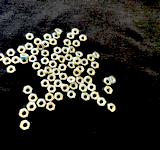nut: (20, 121, 31, 132), (23, 86, 34, 96), (19, 109, 30, 119), (46, 102, 56, 113), (107, 103, 117, 114), (27, 102, 37, 113), (37, 99, 47, 109), (54, 92, 64, 102), (67, 91, 77, 100), (45, 93, 55, 102), (97, 98, 106, 108), (7, 65, 16, 74), (32, 62, 41, 71), (41, 79, 50, 88), (59, 63, 68, 72), (88, 83, 97, 92), (104, 86, 113, 95), (29, 94, 38, 103), (12, 56, 21, 65), (41, 57, 50, 66), (104, 78, 113, 87), (48, 85, 57, 94), (54, 80, 63, 89), (61, 84, 70, 93), (37, 43, 46, 52), (76, 77, 85, 86), (91, 92, 100, 101), (6, 49, 16, 57), (81, 93, 91, 101), (47, 74, 57, 82), (28, 55, 38, 63), (51, 53, 60, 61), (44, 33, 53, 41), (59, 73, 68, 81), (87, 68, 96, 76), (81, 58, 89, 67), (73, 69, 82, 77), (3, 58, 12, 66), (31, 48, 40, 56), (109, 76, 117, 85), (37, 70, 46, 78), (80, 84, 88, 93), (49, 61, 58, 69), (87, 54, 96, 62), (80, 34, 88, 42), (62, 47, 70, 55), (26, 33, 34, 41), (18, 46, 26, 54), (70, 83, 78, 91), (34, 38, 42, 46), (72, 28, 80, 36), (64, 39, 72, 47), (73, 40, 81, 48), (45, 67, 53, 75), (68, 62, 76, 70), (41, 50, 50, 57), (54, 47, 62, 54), (25, 43, 33, 50), (42, 41, 50, 48), (50, 39, 58, 46), (69, 46, 76, 54), (65, 54, 73, 61), (58, 56, 66, 63), (93, 52, 100, 60), (92, 62, 100, 69), (74, 57, 81, 65), (77, 66, 85, 73), (67, 77, 76, 83), (20, 59, 29, 65), (53, 69, 60, 76), (67, 33, 75, 39), (55, 29, 63, 35), (53, 33, 61, 39), (76, 52, 84, 58), (20, 54, 29, 59), (0, 54, 5, 62)
